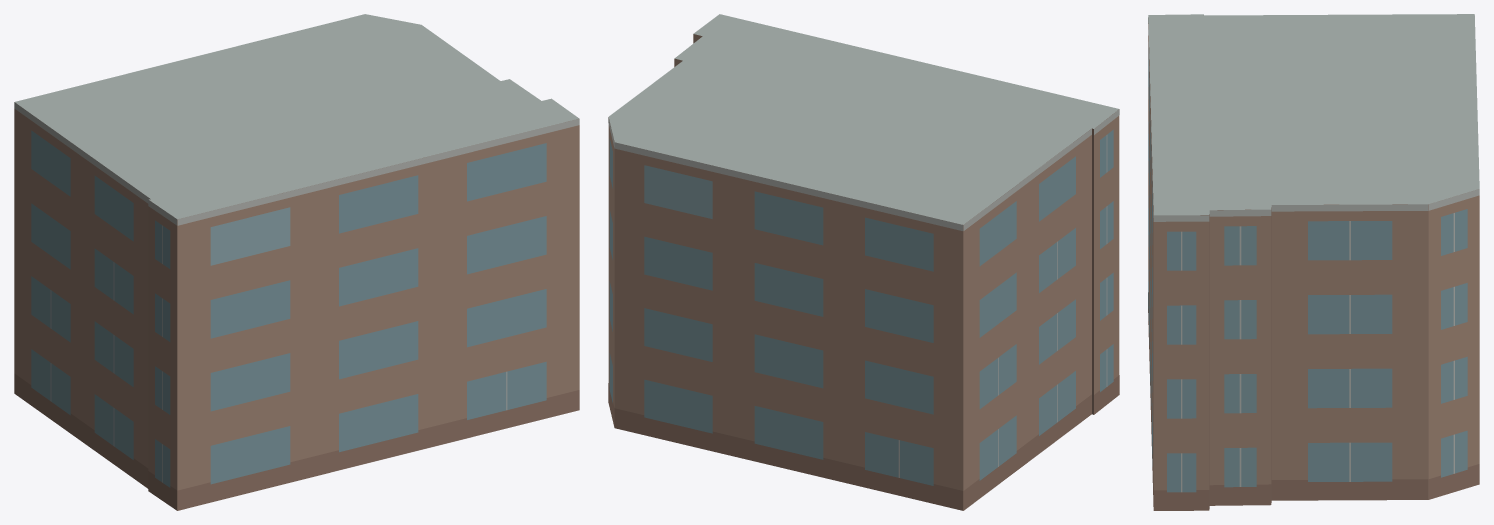
The model's file is survey-upis-32668294.glb.
3 views of the same model, side by side, from view 1: azimuth 30°, elevation 25°; view 2: azimuth 150°, elevation 25°; view 3: azimuth 270°, elevation 25° (orthographic). The views are drawn at different scales.
Visible parts, largest first — view 1: survey-upis-32668294.tmp; view 2: survey-upis-32668294.tmp; view 3: survey-upis-32668294.tmp.
Boxes of the visible parts, x1,y1,x2,y2 form: survey-upis-32668294.tmp: (14, 14, 579, 510); survey-upis-32668294.tmp: (608, 14, 1119, 510); survey-upis-32668294.tmp: (1148, 14, 1479, 510).
Bounding box in the file's own units: 16.08 × 11 × 11.19.
